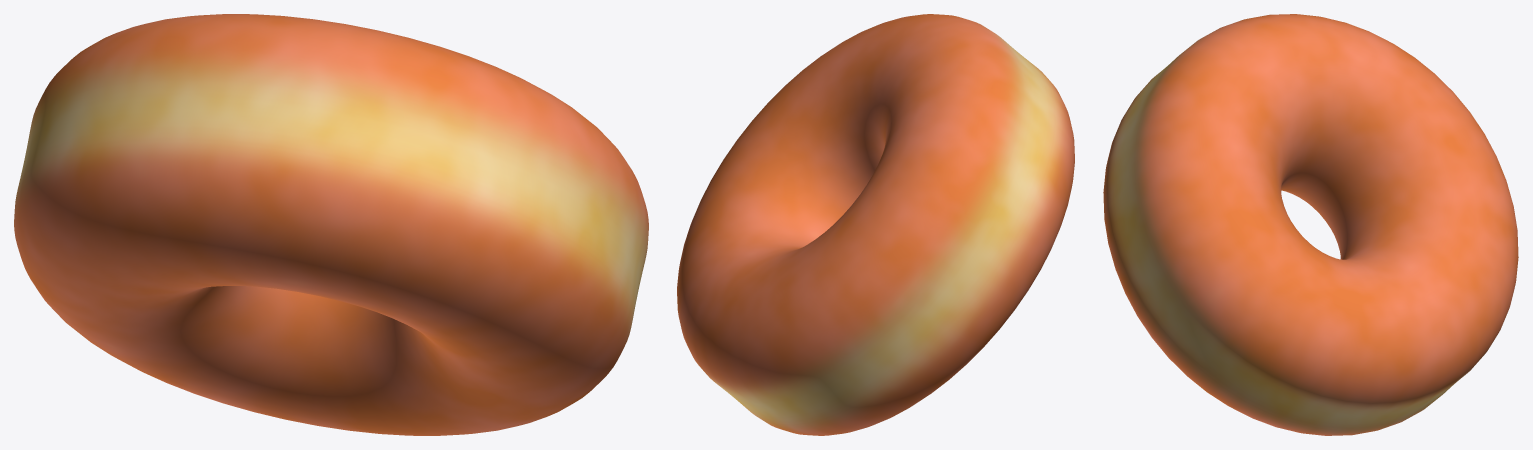
Rendered from plain_donut.glb.
The picture shows the model from 3 angles, left to right: view 1: azimuth 30°, elevation 25°; view 2: azimuth 150°, elevation 25°; view 3: azimuth 270°, elevation 25°; orthographic projection. The views are drawn at different scales.
Visible parts, largest first — view 1: Torus.002_0; view 2: Torus.002_0; view 3: Torus.002_0.
Boxes of the visible parts, x1=… form: Torus.002_0: x1=14, y1=14, x2=648, y2=435; Torus.002_0: x1=677, y1=14, x2=1074, y2=435; Torus.002_0: x1=1103, y1=14, x2=1518, y2=435.
Size of the model in its own units: 0.3683 by 0.3361 by 0.3706.
1 material, 1 textured.
